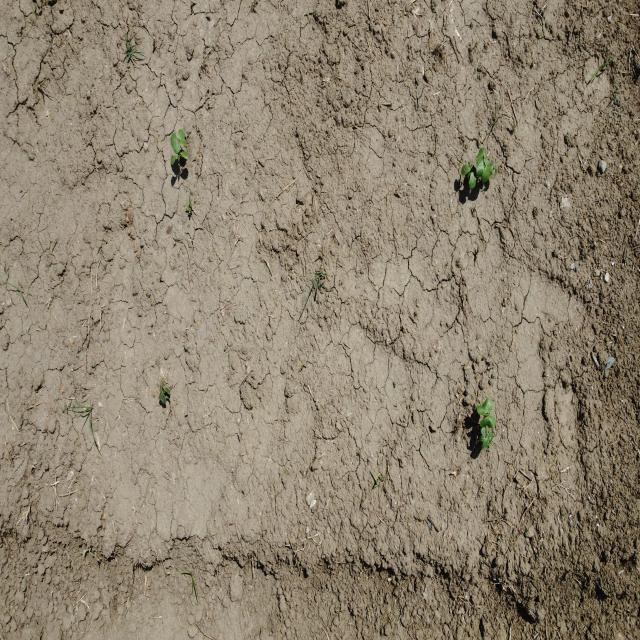seedling_s3: (477, 398, 493, 415), (171, 132, 181, 153), (482, 431, 493, 450), (479, 416, 495, 429), (461, 161, 473, 176), (481, 162, 490, 182), (478, 425, 488, 442), (476, 156, 484, 177), (159, 385, 166, 405), (469, 169, 476, 189), (178, 129, 186, 146), (162, 382, 170, 395), (484, 148, 489, 165), (171, 153, 178, 165), (476, 148, 484, 158), (180, 151, 189, 159), (490, 162, 494, 175)
